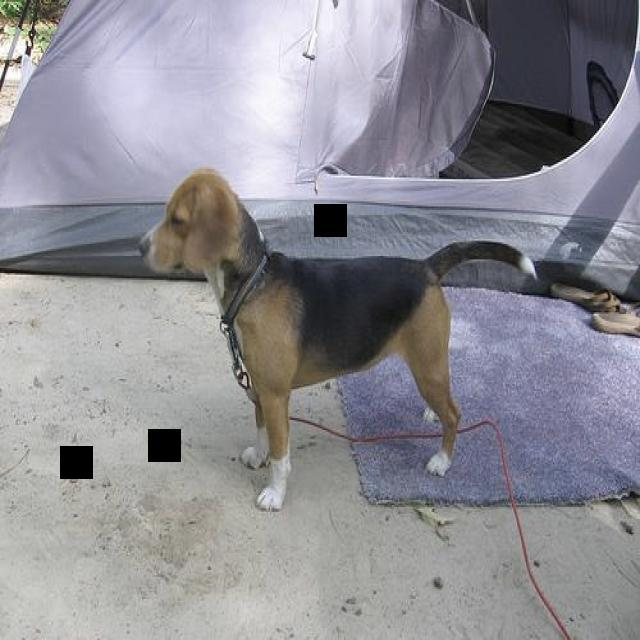adult_dog: (138, 164, 539, 511)
